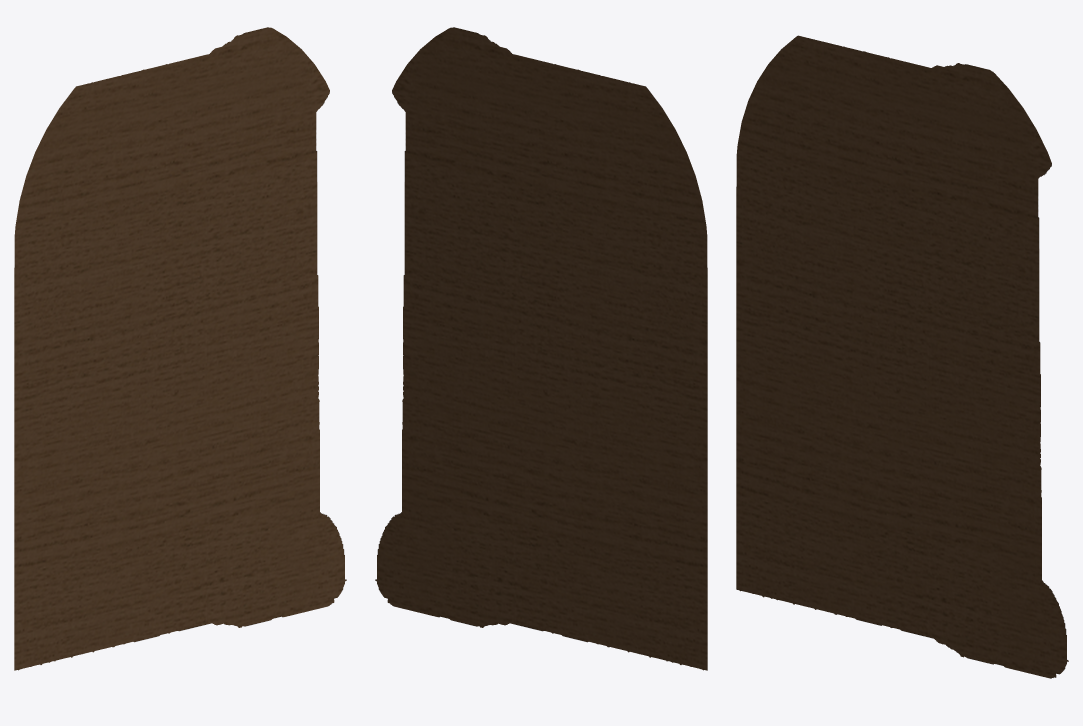
The model's file is Back.obj.
3 views of the same model, side by side, from view 1: azimuth 30°, elevation 25°; view 2: azimuth 150°, elevation 25°; view 3: azimuth 330°, elevation 25° (orthographic).
Visible parts, largest first — view 1: Back_Jukebox_109967-geom.009; view 2: Back_Jukebox_109967-geom.009; view 3: Back_Jukebox_109967-geom.009.
Part boxes in pixels (box(x1,y1,x2,y2)): Back_Jukebox_109967-geom.009: box(14, 27, 346, 670); Back_Jukebox_109967-geom.009: box(375, 27, 707, 670); Back_Jukebox_109967-geom.009: box(736, 35, 1068, 678).
Size of the model in its own units: 8 by 15 by 3.1e-06.
Materials: 1 (1 with a texture image).
